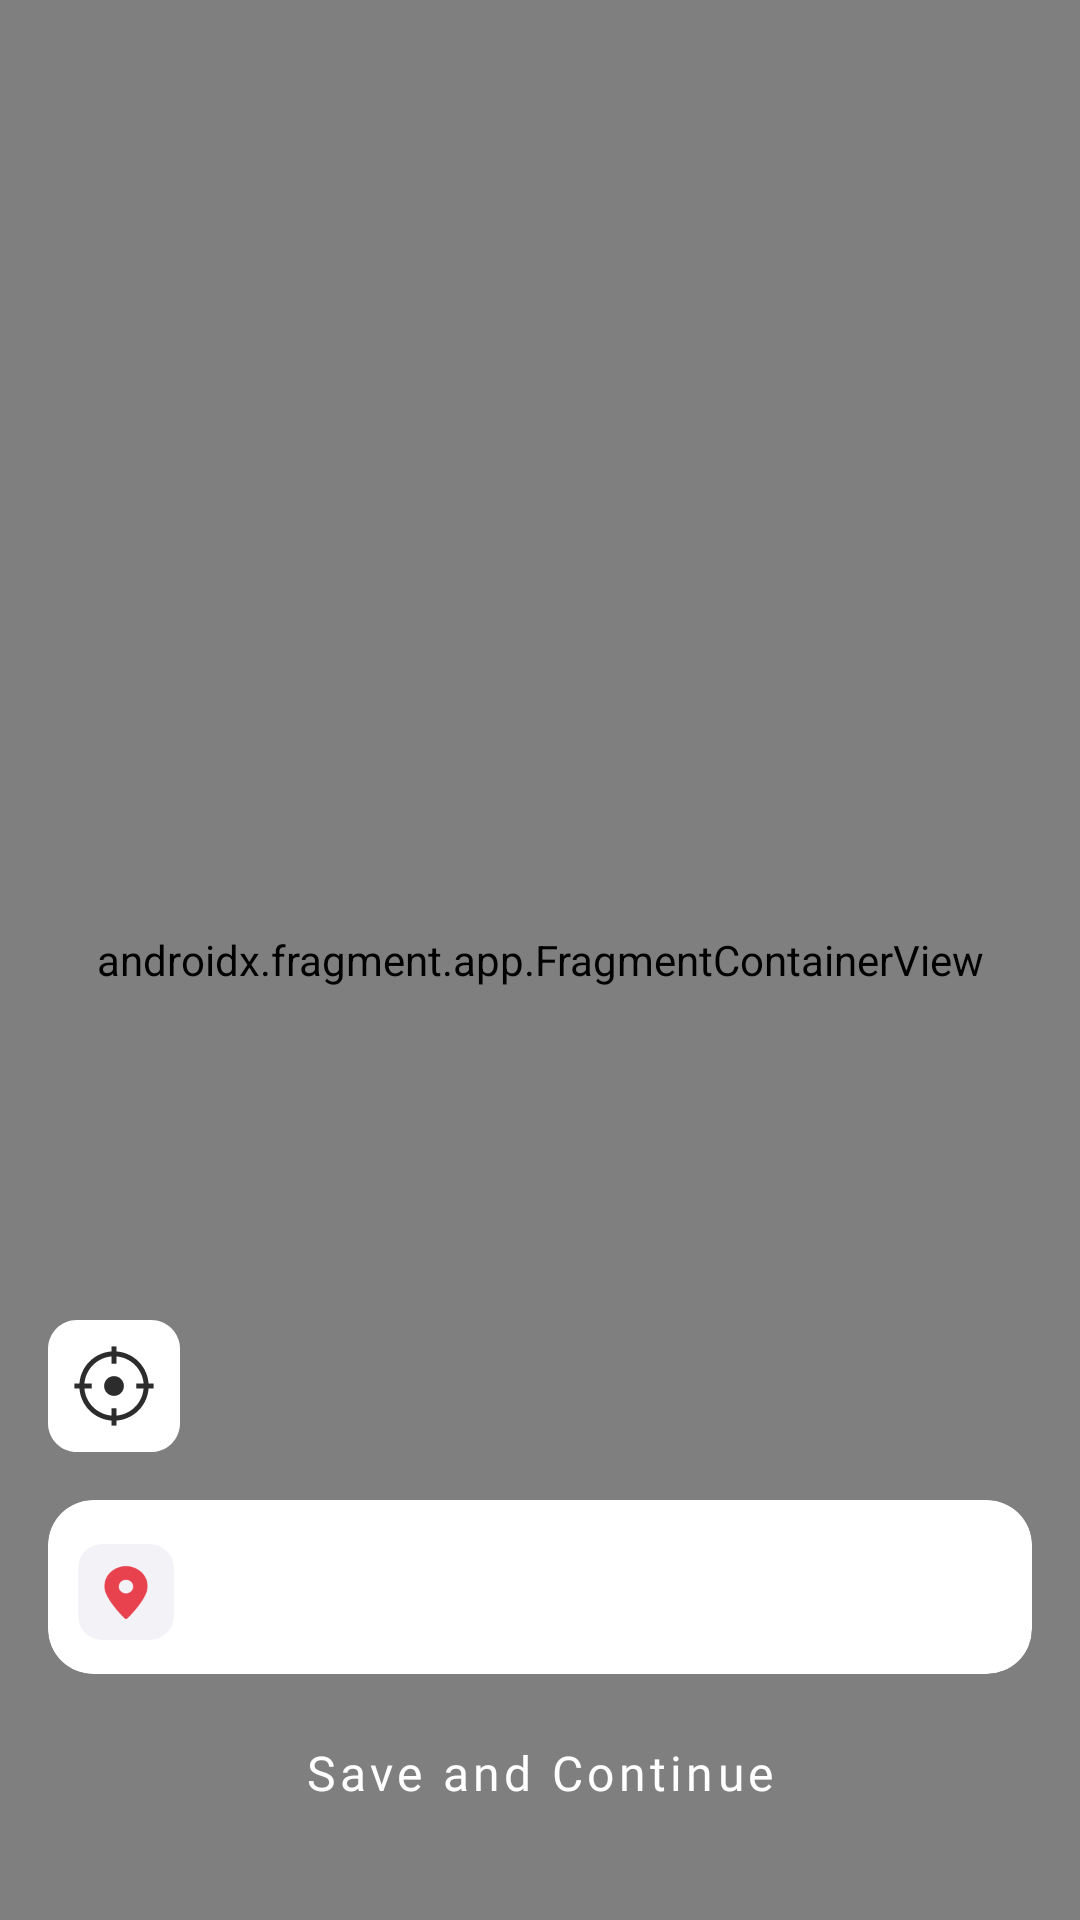

Icon click points for this 1080w x 1920h phone screenshot, format (x,y):
Select current location: (114,1386)
